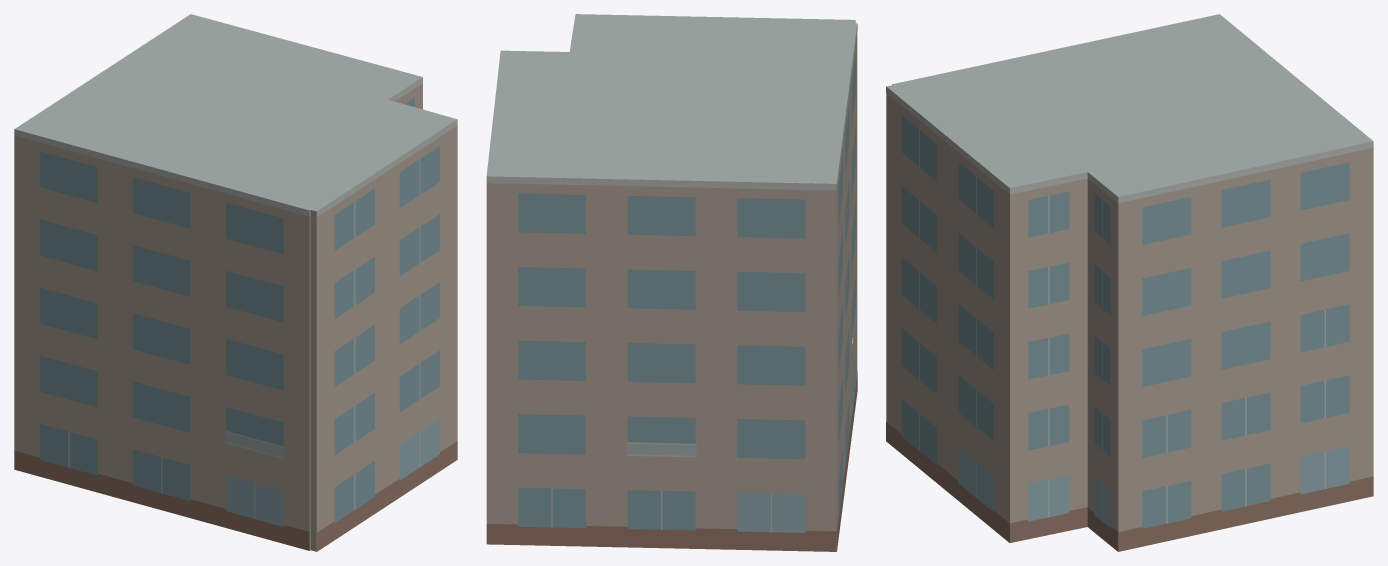
The model's file is survey-upis-32972542.glb.
3 views of the same model, side by side, from view 1: azimuth 30°, elevation 25°; view 2: azimuth 150°, elevation 25°; view 3: azimuth 270°, elevation 25° (orthographic). The views are drawn at different scales.
Parts seen in each view (by area): view 1: survey-upis-32972542.tmp; view 2: survey-upis-32972542.tmp; view 3: survey-upis-32972542.tmp.
Boxes of the visible parts, <box> form: survey-upis-32972542.tmp: <box>14,14,457,551</box>; survey-upis-32972542.tmp: <box>486,14,857,551</box>; survey-upis-32972542.tmp: <box>886,14,1373,551</box>.
Bounding box in the file's own units: 14.94 × 13.5 × 16.81.
